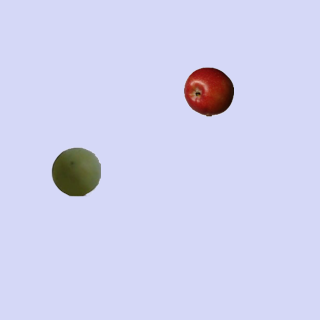Apple Braeburn: (183, 66, 233, 116)
Grape White 4: (50, 146, 100, 196)
